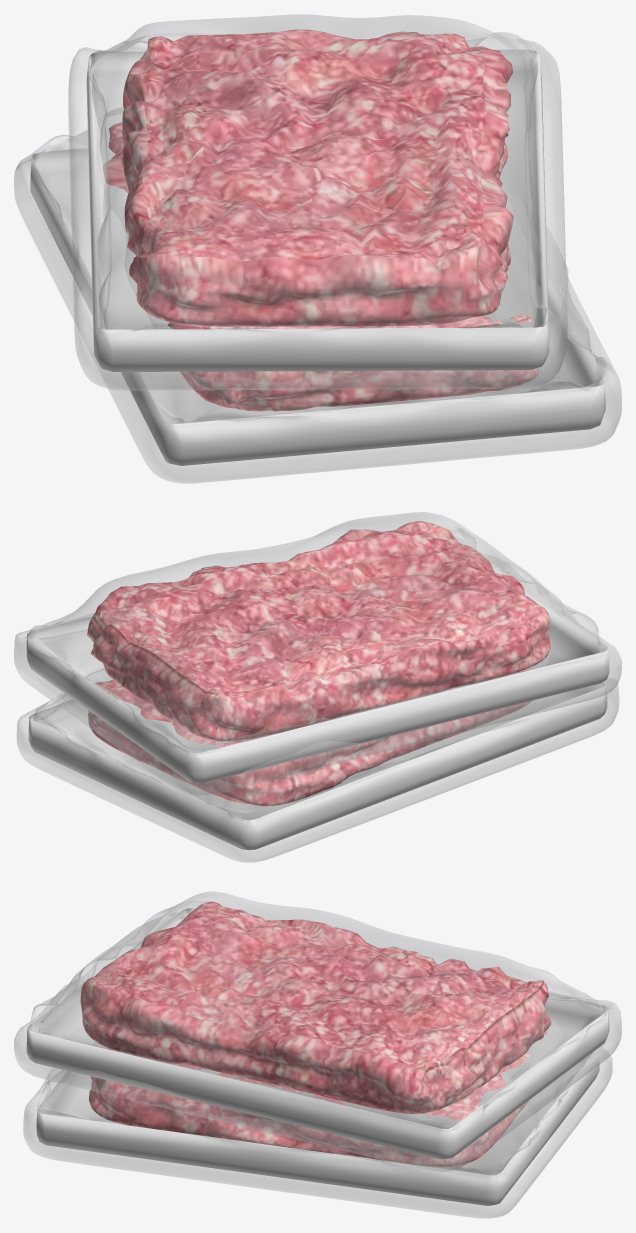
Rendered from mince.glb.
3 views of the same model, one above another, from view 1: azimuth 30°, elevation 25°; view 2: azimuth 150°, elevation 25°; view 3: azimuth 270°, elevation 25° (orthographic). The views are drawn at different scales.
Parts seen in each view (by area): view 1: Wrap.001, MinceContainer.001, Wrap, MinceContainer; view 2: Wrap.001, MinceContainer.001, Wrap, MinceContainer; view 3: Wrap.001, MinceContainer.001, Wrap, MinceContainer.
Boxes of the visible parts, x1,y1,x2,y2 form: Wrap.001: (68,14,567,390); MinceContainer.001: (86,29,549,371); Wrap: (14,107,621,483); MinceContainer: (30,122,605,465); Wrap.001: (14,512,621,795); MinceContainer.001: (26,521,609,783); Wrap: (17,648,618,862); MinceContainer: (28,668,607,850); Wrap.001: (14,891,621,1171); MinceContainer.001: (26,901,609,1159); Wrap: (23,1016,612,1218); MinceContainer: (36,1030,599,1205).
Size of the model in its own units: 0.891 by 0.292 by 0.9894.
3 materials, 1 textured.
